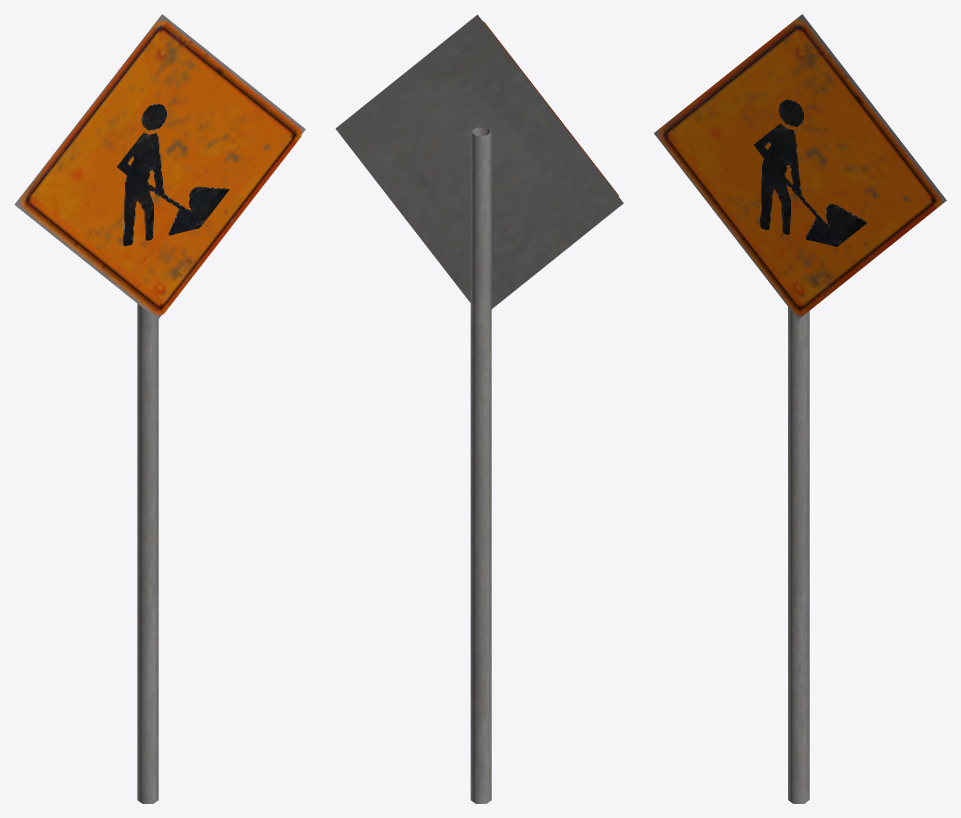
The model's file is construction_sign_small_b.DAE.
The picture shows the model from 3 angles, left to right: view 1: azimuth 30°, elevation 25°; view 2: azimuth 150°, elevation 25°; view 3: azimuth 330°, elevation 25°; orthographic projection.
Parts seen in each view (by area): view 1: Construction_sign_small_b30; view 2: Construction_sign_small_b30; view 3: Construction_sign_small_b30.
Boxes of the visible parts, x1,y1,x2,y2 form: Construction_sign_small_b30: [14, 14, 305, 803]; Construction_sign_small_b30: [335, 14, 623, 803]; Construction_sign_small_b30: [654, 14, 946, 803].
Bounding box in the file's own units: 1.15 × 0.0832 × 2.96.
